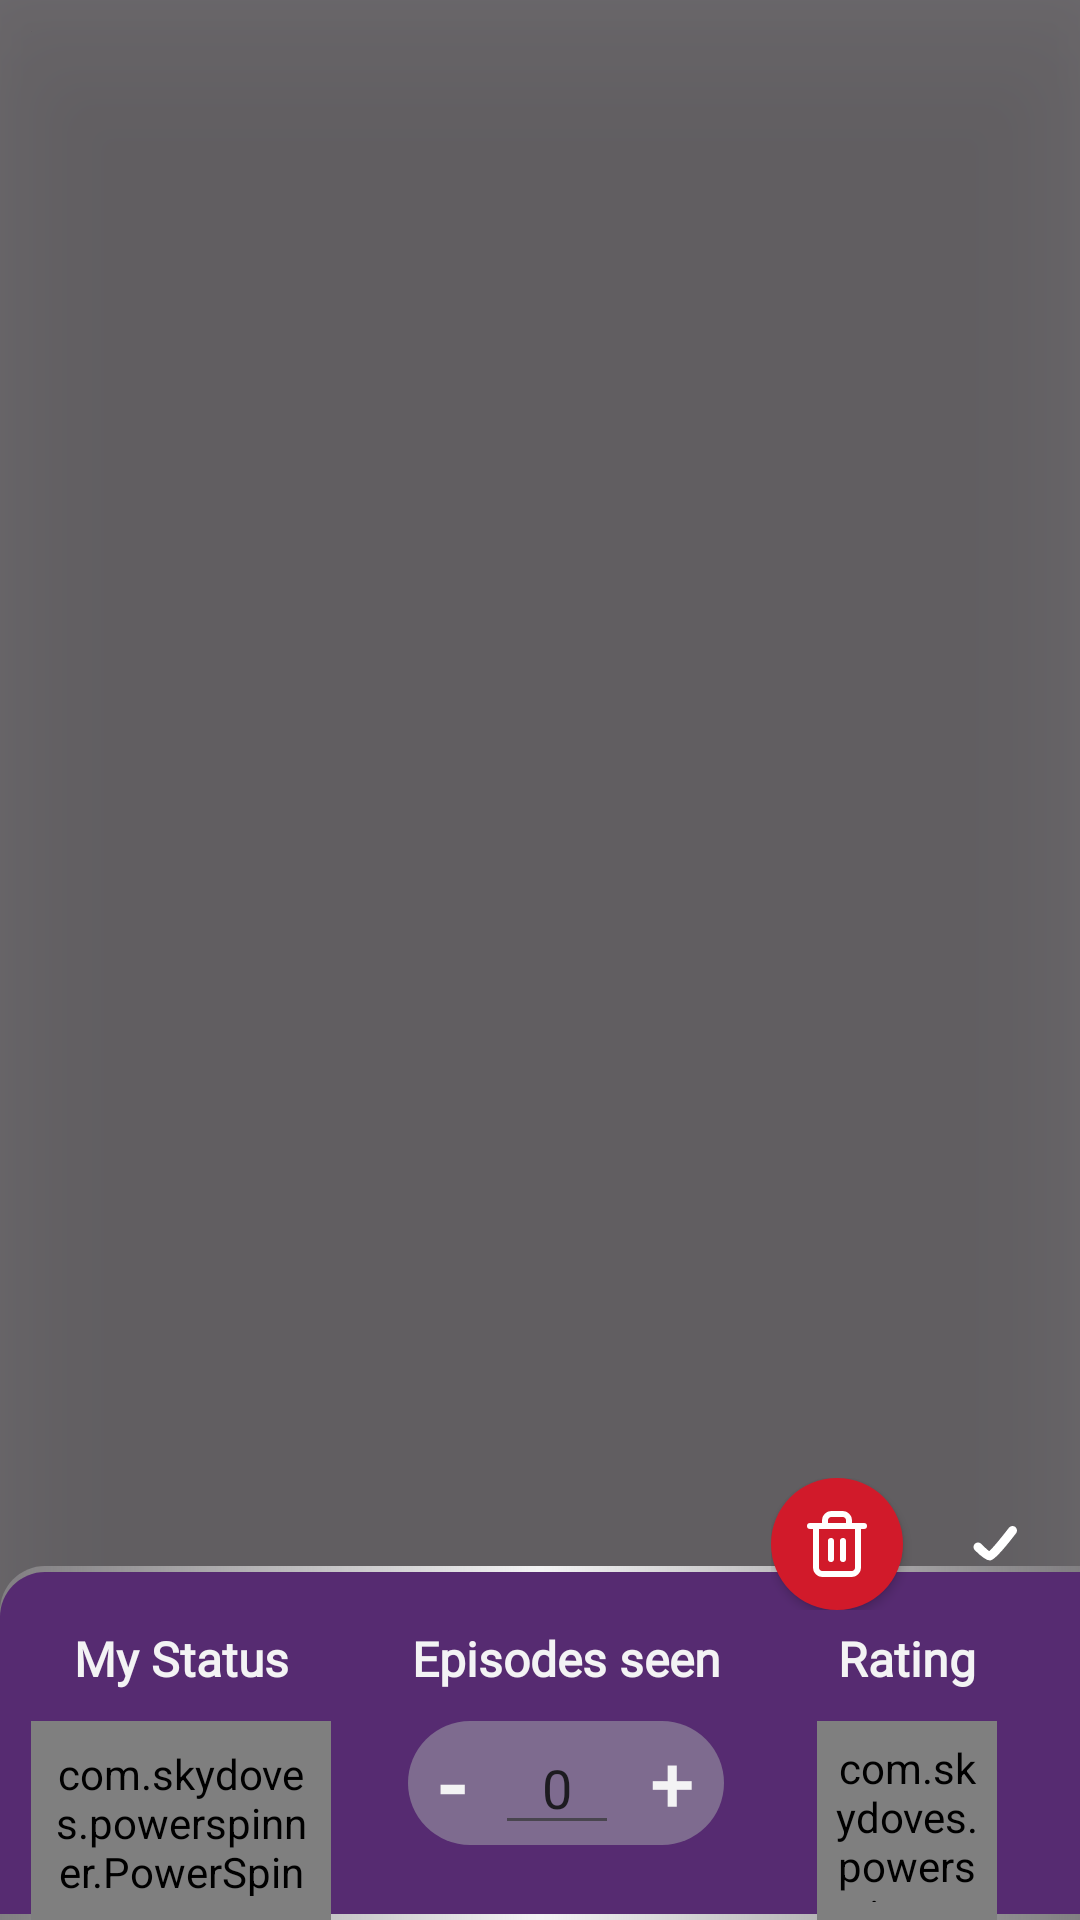

Screen size 1080 x 1920. Icon name, then its center in pixels as point (x, y):
trash: point (837, 1544)
